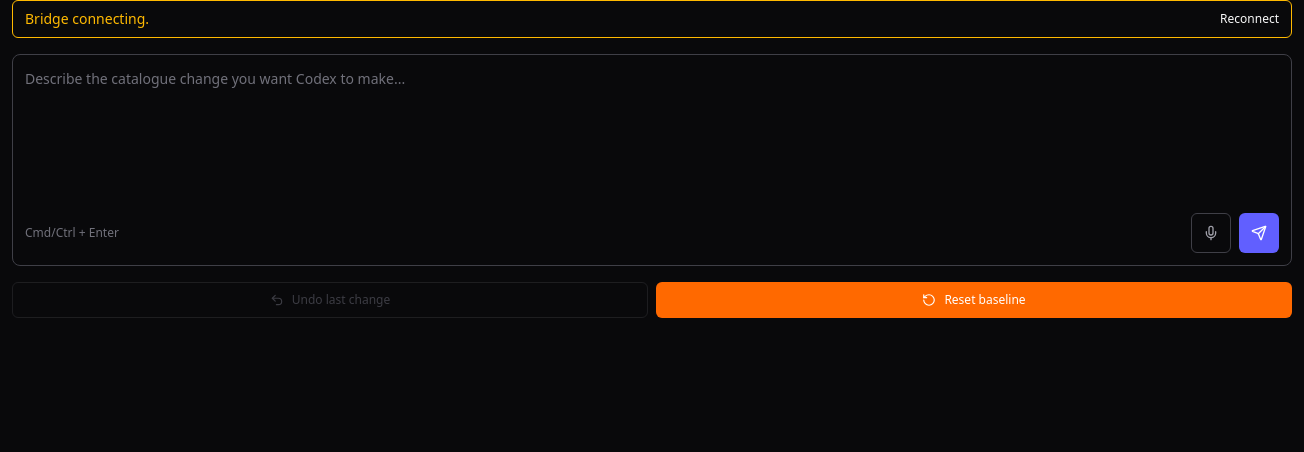
FeatureRequest › restores the prompt when the WebSocket closes during submit
Type "Add filters" into the text box with placeholder "Describe the catalogue change you want Codex to make..." at (652, 131), box [25,67,1279,195]
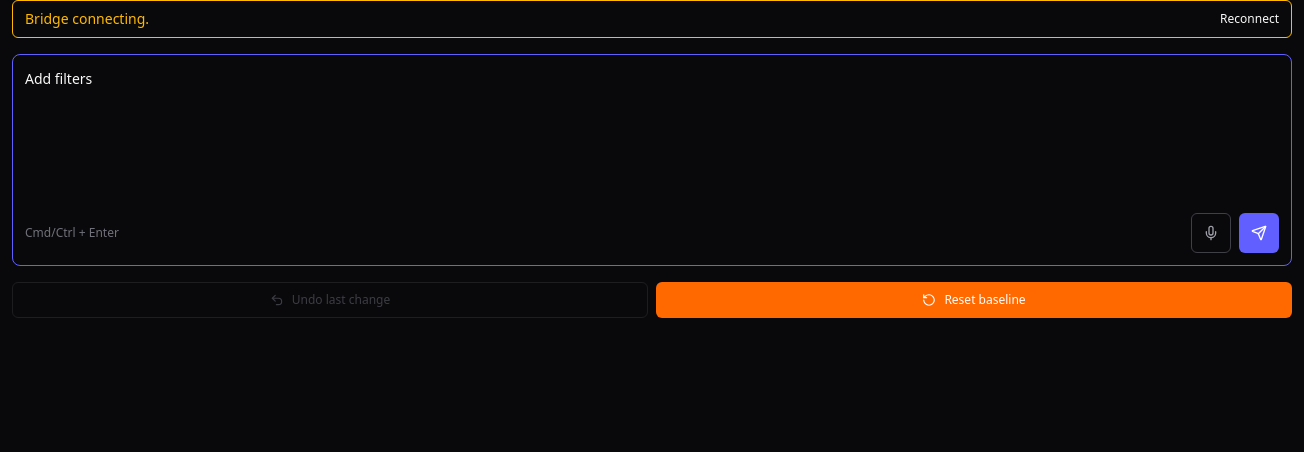
Click the button named "Submit feature request" at (1259, 233), box [1239,213,1279,253]
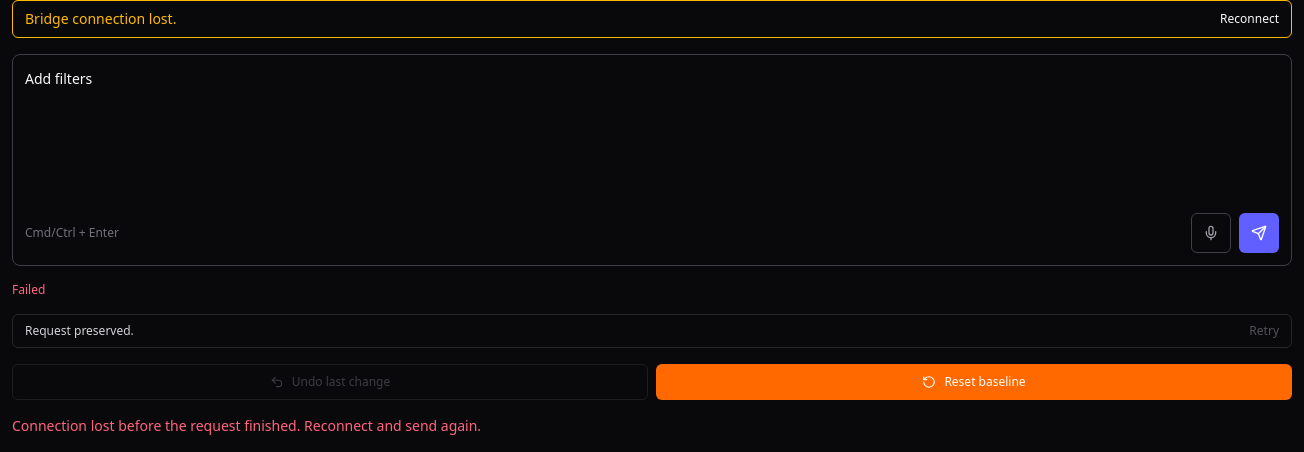
Expected: the text "Connection lost before the request finished. Reconnect and send again." is shown, [12,416,481,435]
Expected: the button "Retry" is disabled, [1249,323,1279,339]
